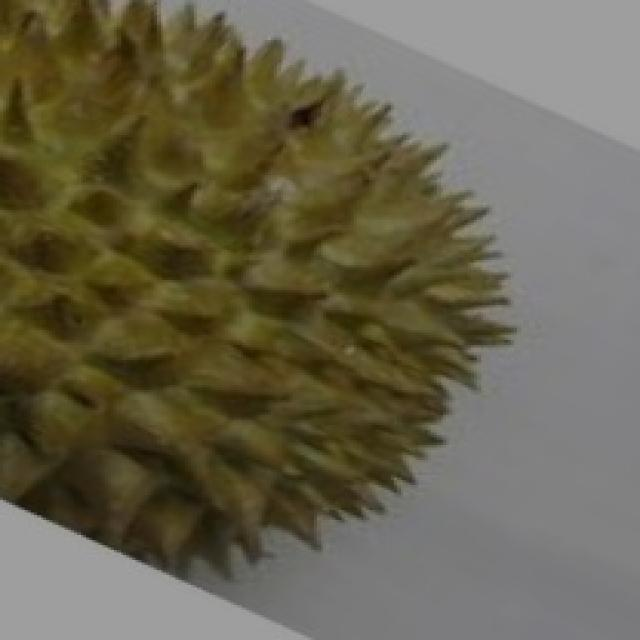fruit: (0, 222, 360, 640)
